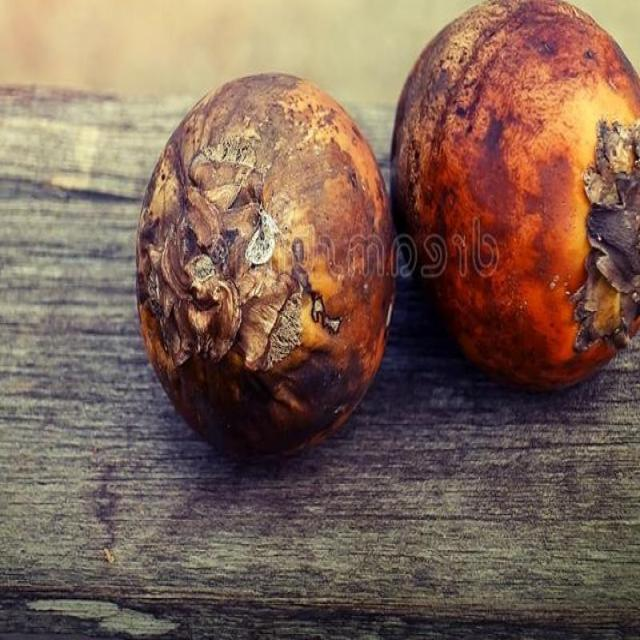damaged: (138, 73, 395, 454), (391, 0, 639, 387)
